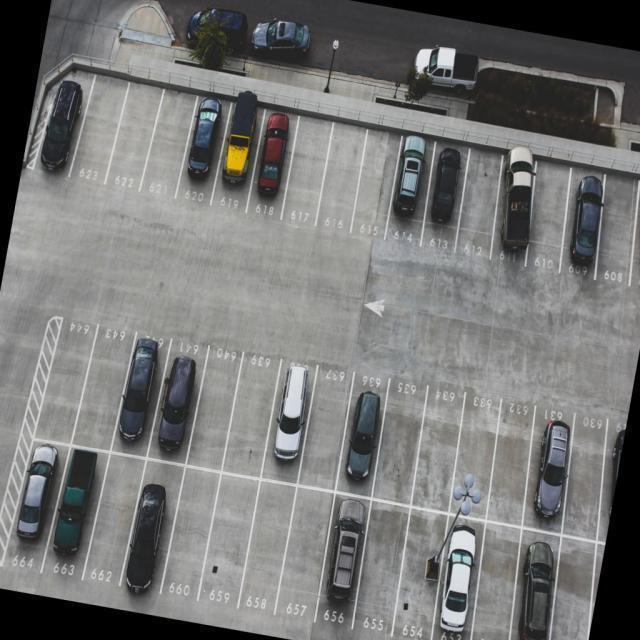car: (393, 514, 453, 640), (50, 448, 107, 578), (429, 520, 490, 640), (7, 440, 65, 563), (501, 536, 568, 640), (127, 462, 182, 588), (260, 361, 316, 482), (36, 64, 92, 184), (243, 105, 299, 224), (520, 407, 571, 537), (112, 336, 167, 454), (323, 494, 373, 623), (152, 340, 208, 454), (340, 378, 390, 498), (212, 100, 263, 211), (486, 153, 538, 259), (178, 100, 228, 202), (422, 139, 472, 239), (561, 172, 608, 277), (391, 134, 434, 234), (598, 422, 626, 540), (624, 184, 640, 294)
free: (82, 450, 146, 586), (162, 466, 222, 599), (200, 476, 259, 605), (554, 410, 612, 541), (278, 488, 336, 616), (350, 508, 410, 631), (240, 480, 296, 610), (484, 399, 538, 532), (223, 353, 280, 478), (372, 379, 427, 507), (412, 384, 466, 510), (72, 68, 127, 189), (39, 322, 95, 439), (76, 328, 132, 441), (466, 532, 524, 640), (299, 371, 352, 488), (188, 350, 241, 466), (280, 114, 332, 230), (450, 394, 500, 514), (544, 540, 602, 640), (313, 123, 368, 228), (348, 128, 402, 234), (522, 165, 574, 274), (142, 92, 194, 194), (108, 86, 158, 186), (596, 180, 640, 285), (456, 154, 500, 258)
